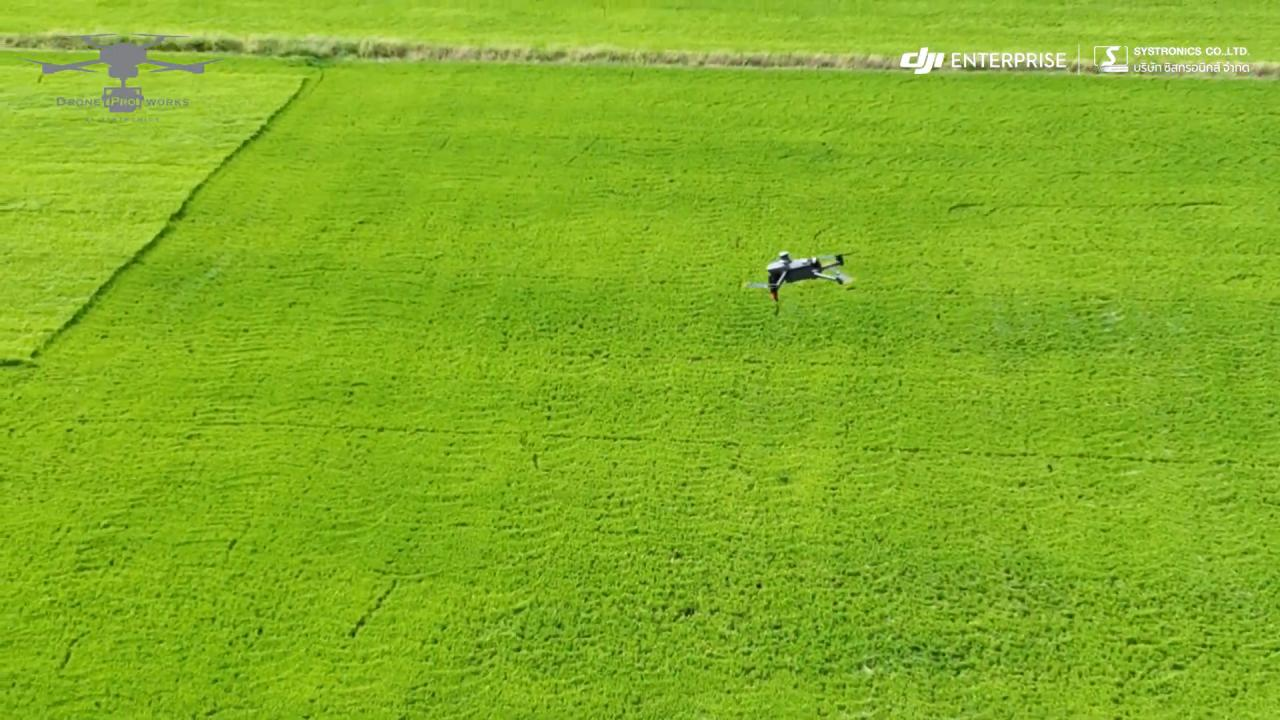Drone: (736, 236, 871, 311)
